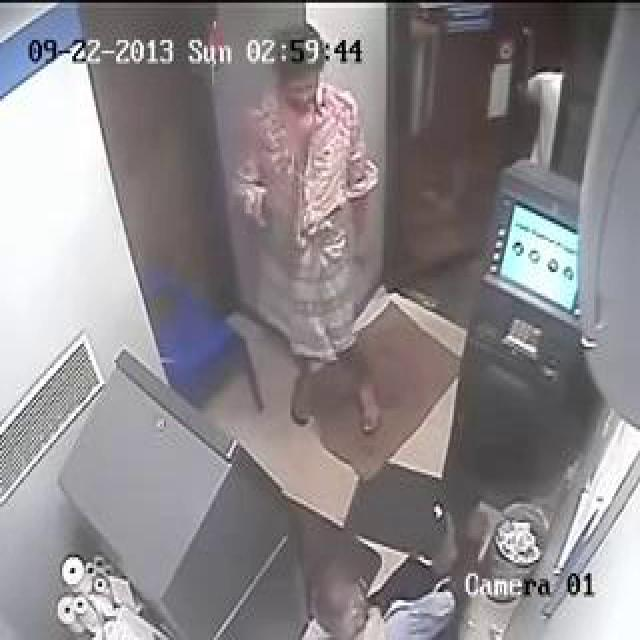shooting: (196, 33, 448, 520)
